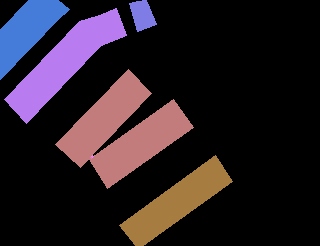parkingspot: (4, 8, 126, 123), (119, 155, 232, 245), (55, 69, 151, 167), (89, 99, 193, 188), (0, 0, 69, 79), (129, 0, 156, 31)
